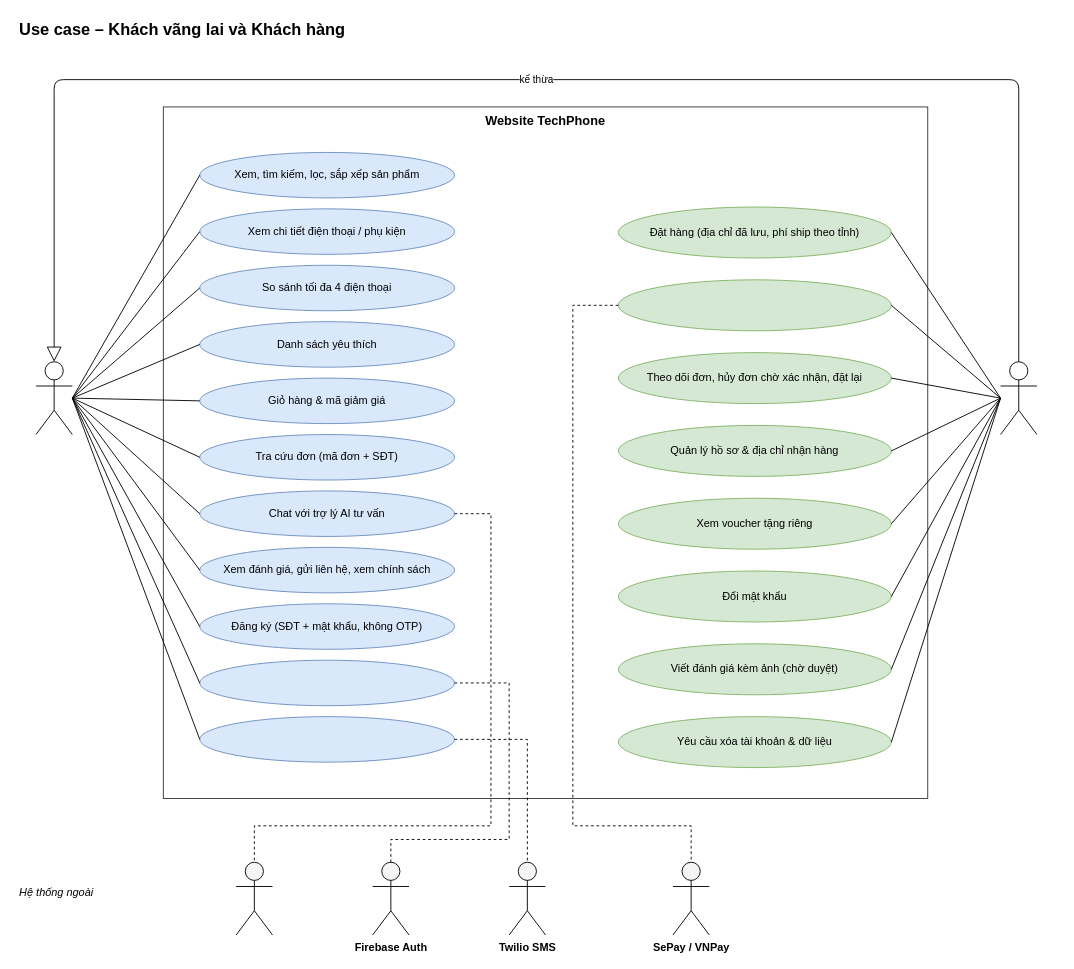
Image size: 1074x969. Some labels were removed from this diagram. Each missing label, with the centre of its shape:
Google Gemini API: the point at 254,898
Khách hàng (đã đăng nhập): the point at 1018,398
Khách vãng lai: the point at 53,398
Quên mật khẩu (OTP SMS): the point at 327,739
Thanh toán COD / VietQR / MoMo / VNPay: the point at 754,305
Đăng nhập SĐT / Google / Facebook: the point at 327,682
